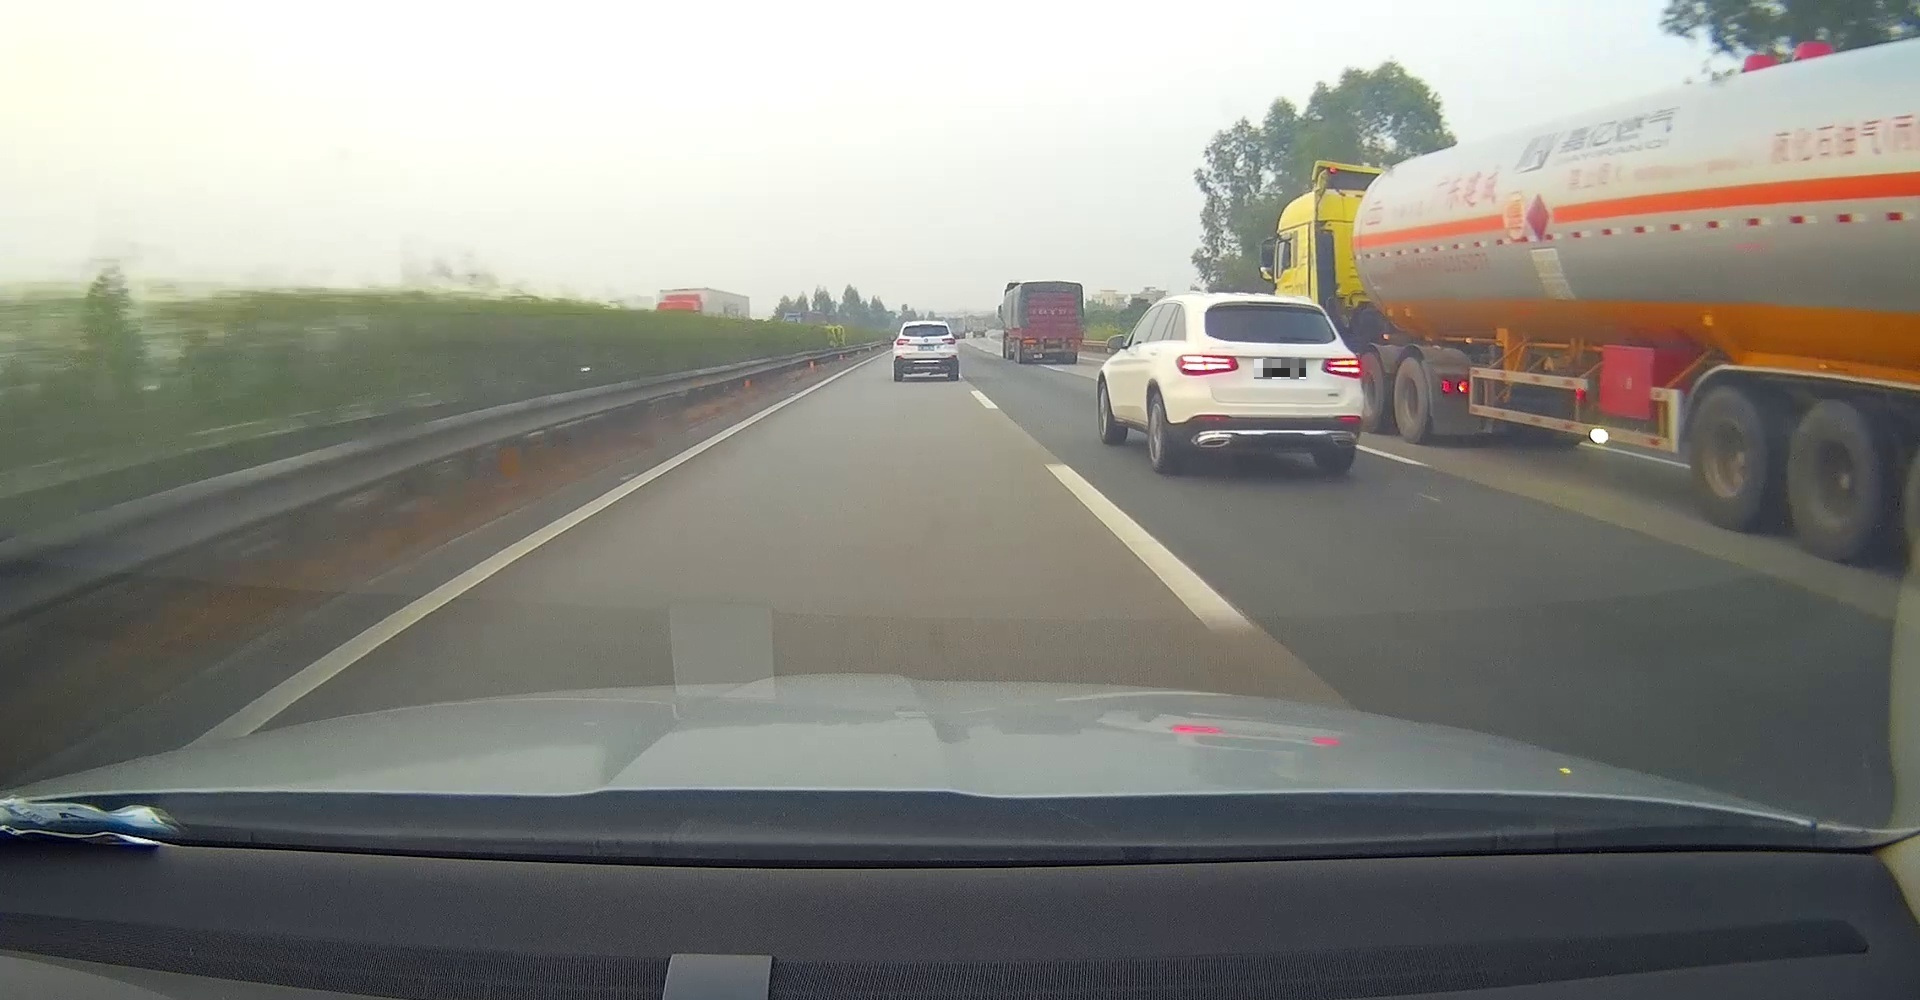L_light: (1175, 354, 1239, 376), (897, 338, 909, 346), (1023, 344, 1035, 348)
R_light: (1321, 358, 1363, 379), (942, 338, 956, 345), (1068, 343, 1079, 346)
T_light: (1247, 301, 1290, 307), (919, 324, 932, 327), (1048, 291, 1058, 293)
day-brake: (1172, 293, 1364, 473)
day-no: (1018, 280, 1084, 365), (891, 321, 959, 381)
plate_1: (1255, 359, 1305, 379)
